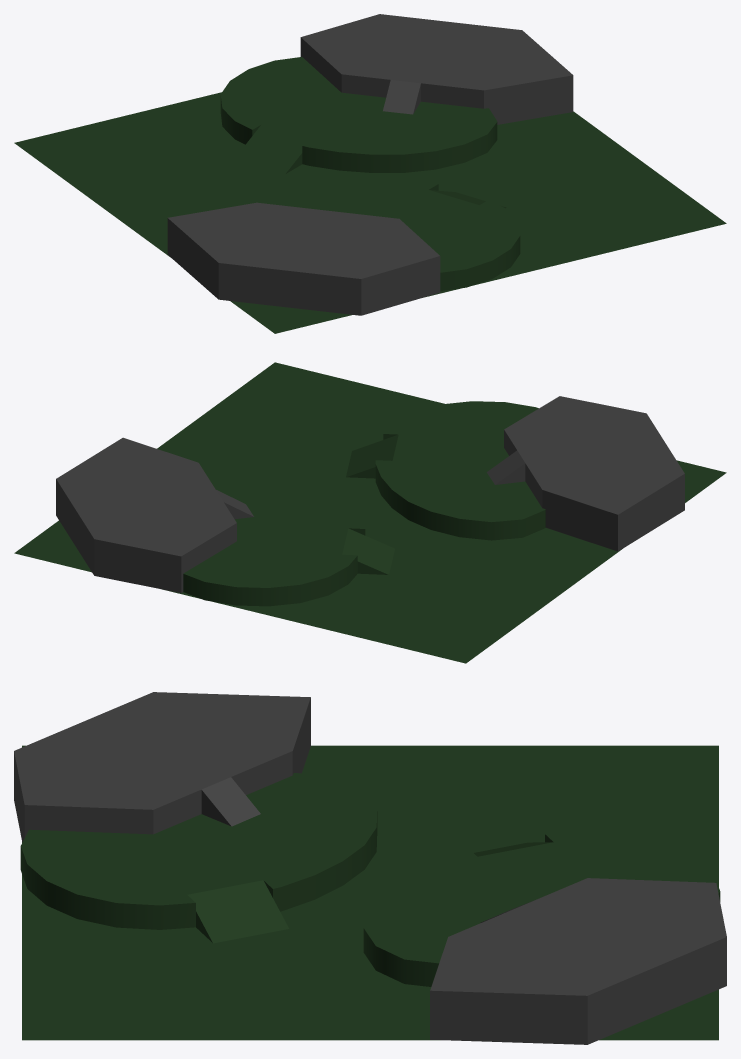
Rendered from Map1Height.fbx.
3 renders of one model, top to bottom at view 1: azimuth 30°, elevation 25°; view 2: azimuth 150°, elevation 25°; view 3: azimuth 270°, elevation 25°, orthographic. The views are drawn at different scales.
Visible parts, largest first — view 1: HeightMesh; view 2: HeightMesh; view 3: HeightMesh.
Boxes of the visible parts, bbox=[...] form: HeightMesh: bbox=[14, 14, 726, 333]; HeightMesh: bbox=[14, 362, 726, 663]; HeightMesh: bbox=[14, 692, 726, 1044].
Size of the model in its own units: 31.87 by 2.4 by 31.61.
